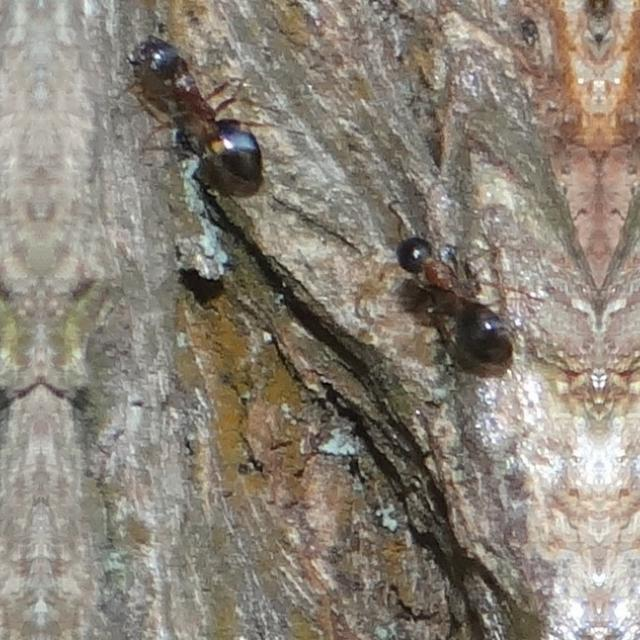Dolichoderus: (102, 6, 290, 222), (366, 198, 534, 386)
